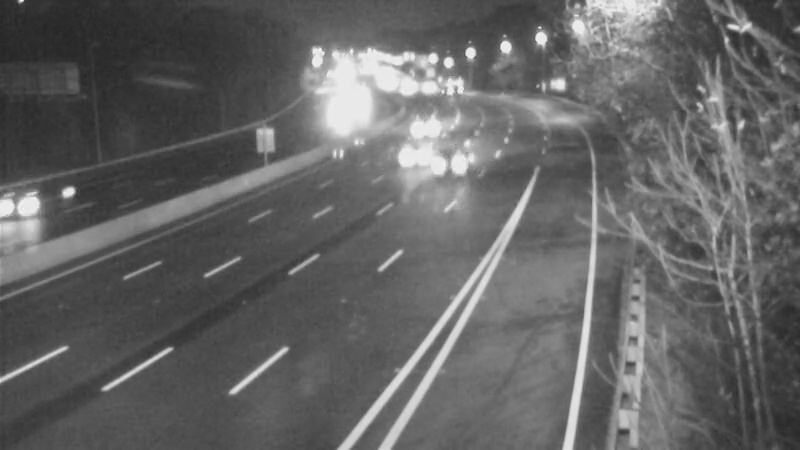vehicle: (403, 128, 483, 208), (1, 164, 75, 244), (389, 104, 439, 154), (389, 121, 439, 171)
